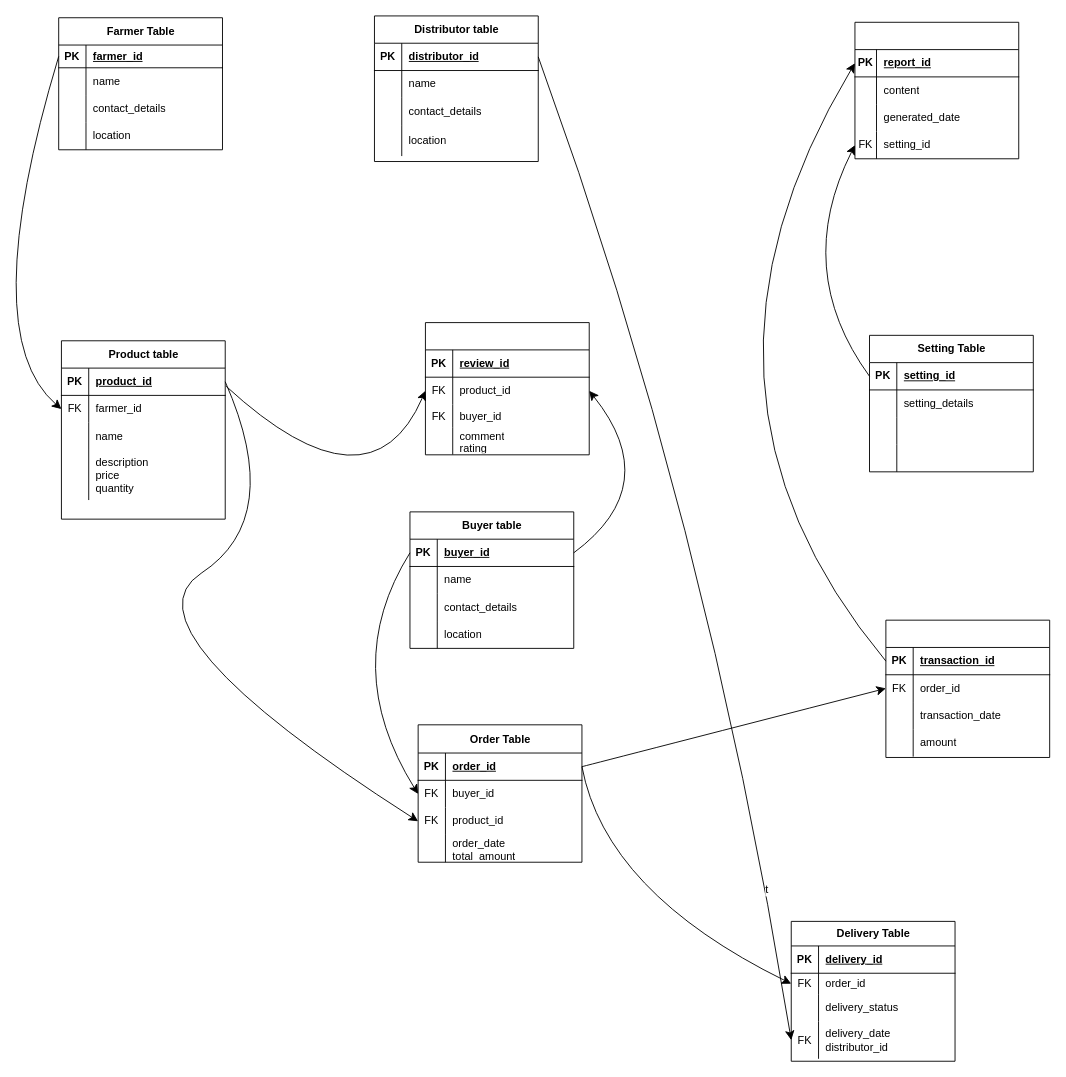
Some shapes in this 1066 by 1077 pixel diagram are drawn without their labels. Here are the shapes that lost their labels. From the top down, the box of each, then its label:
(854, 21, 1019, 159): Report Table
(425, 322, 589, 455): Review Table
(885, 619, 1050, 757): Transaction Table
